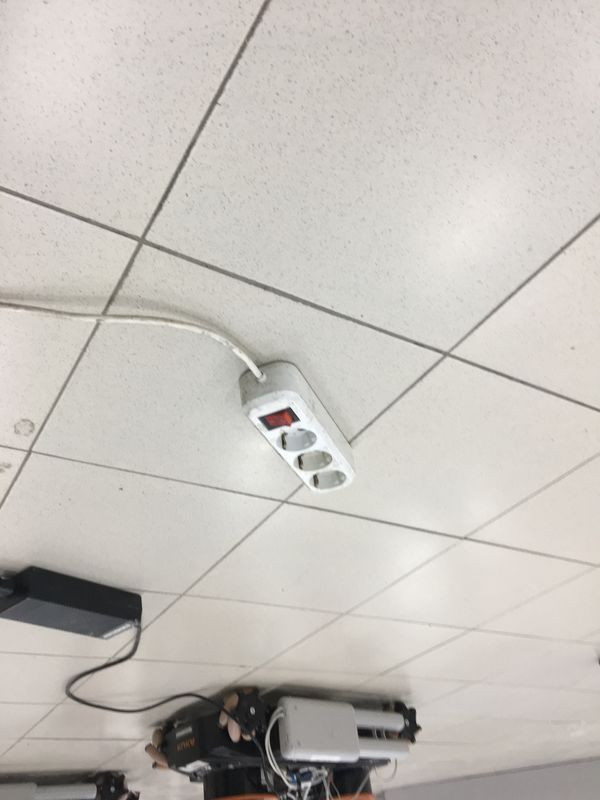socket: (223, 349, 372, 498)
